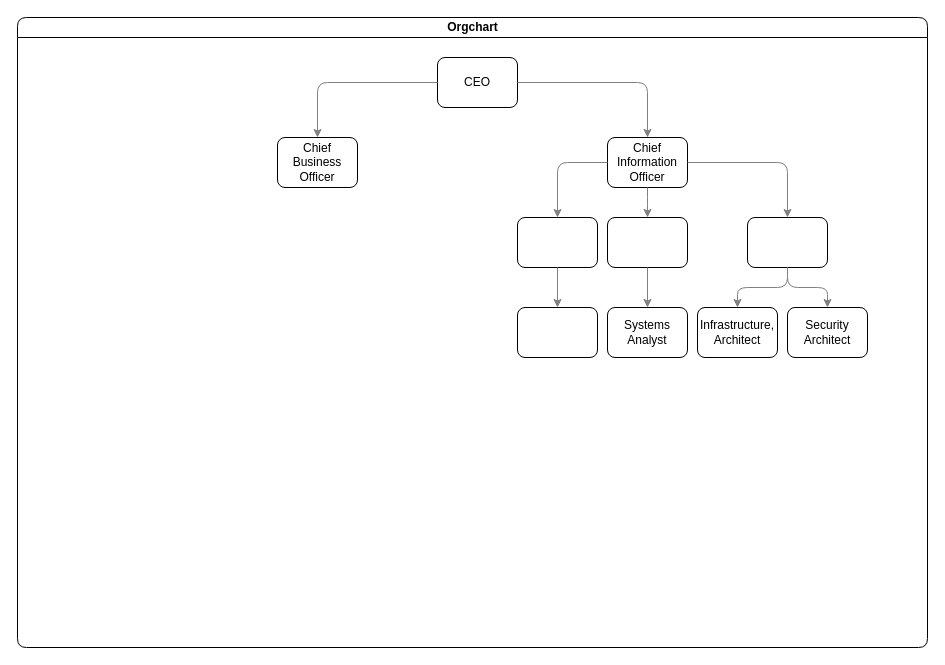
Some shapes in this 945 by 665 pixel diagram are drawn without their labels. Here are the shapes that lost their labels. From the top down, the centre of each, then its label:
At pixel 557 242: "Project Management Office".
At pixel 647 242: "Application Support".
At pixel 787 242: "Infrastructure, Operations, Security".
At pixel 557 332: "Project Manager".
